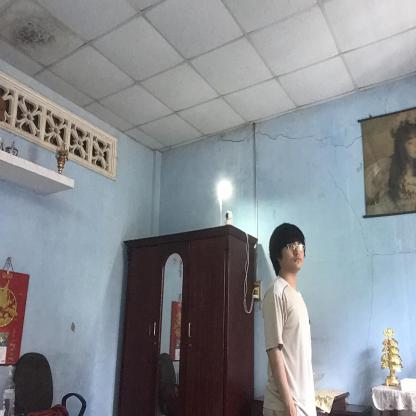person: (260, 223, 320, 415)
